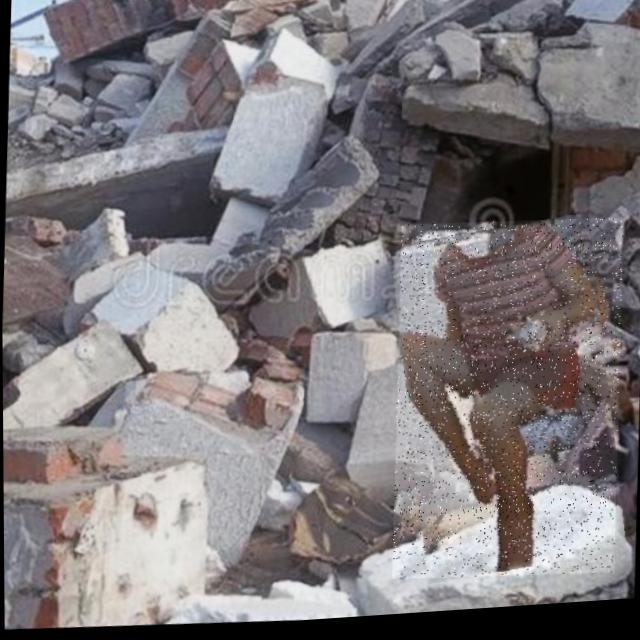Person in Rubble: (388, 218, 625, 593)
